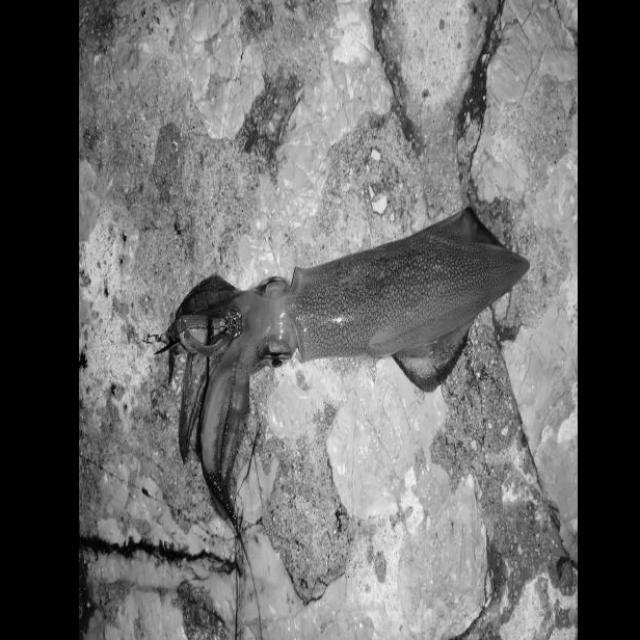SQUID: (148, 188, 554, 512)
